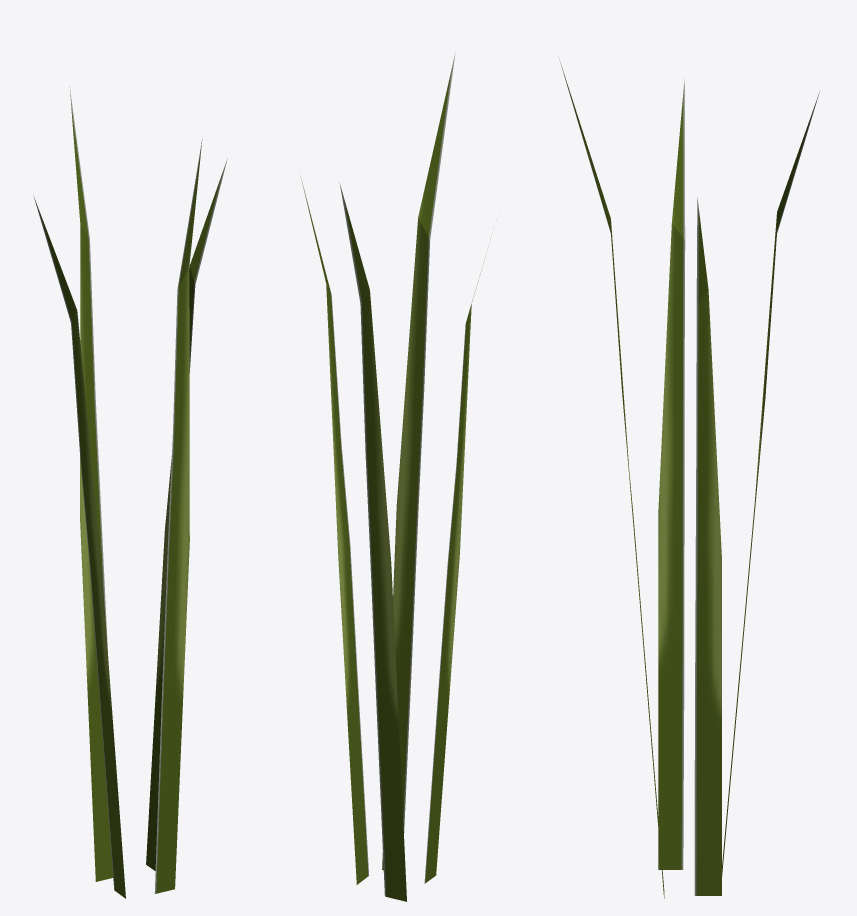
File: ThinGrass1.fbx
3 renders of one model, left to right at view 1: azimuth 30°, elevation 25°; view 2: azimuth 150°, elevation 25°; view 3: azimuth 270°, elevation 25°, orthographic. The views are drawn at different scales.
Parts seen in each view (by area): view 1: ThinGrass1:pPlane4, ThinGrass1:pPlane1, ThinGrass1:pPlane2, ThinGrass1:pPlane3; view 2: ThinGrass1:pPlane1, ThinGrass1:pPlane4, ThinGrass1:pPlane3, ThinGrass1:pPlane2; view 3: ThinGrass1:pPlane2, ThinGrass1:pPlane3, ThinGrass1:pPlane1, ThinGrass1:pPlane4.
Boxes of the visible parts, x1,y1,x2,y2 form: ThinGrass1:pPlane4: (154, 137, 202, 893); ThinGrass1:pPlane1: (69, 86, 113, 881); ThinGrass1:pPlane2: (33, 196, 125, 898); ThinGrass1:pPlane3: (146, 158, 227, 870); ThinGrass1:pPlane1: (339, 183, 406, 901); ThinGrass1:pPlane4: (382, 53, 455, 870); ThinGrass1:pPlane3: (300, 176, 369, 884); ThinGrass1:pPlane2: (424, 262, 483, 883); ThinGrass1:pPlane2: (658, 79, 685, 869); ThinGrass1:pPlane3: (694, 197, 721, 895); ThinGrass1:pPlane1: (722, 91, 819, 875); ThinGrass1:pPlane4: (558, 56, 664, 898).
Size of the model in its own units: 15.98 by 53.23 by 16.44.
